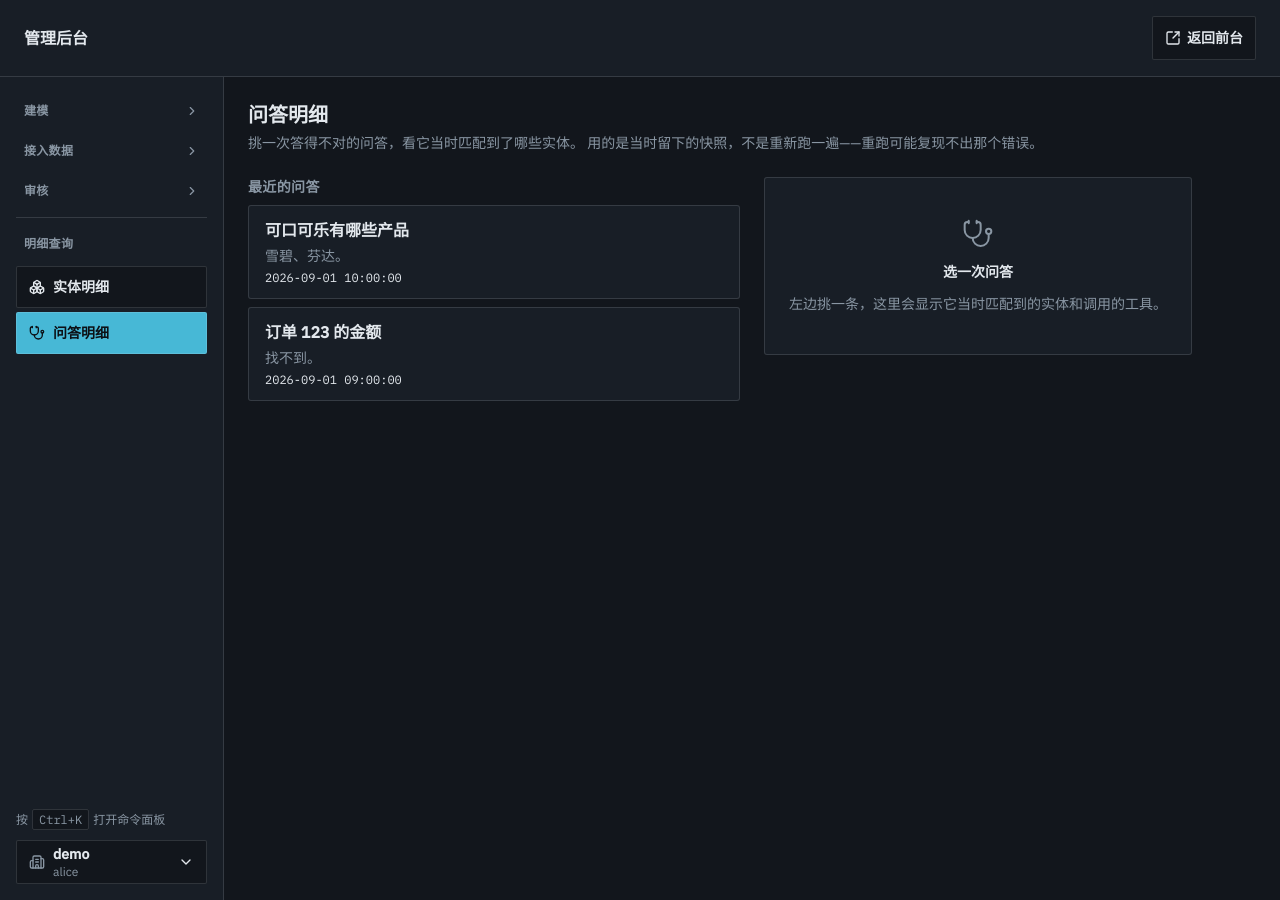
Test: 明细详情 › 被截断的工具结果要标出来
The image size is (1280, 900).
Expected: the header with test id "admin-topbar" is shown, top-left (0, 0), bottom-right (1279, 77)
Expected: the text "可口可乐有哪些产品" is shown, top-left (265, 218), bottom-right (409, 242)
Click the button "可口可乐有哪些产品 雪碧、芬达。 2026-09-01 10:00:00" at (337, 230), box top-left (248, 205), bottom-right (740, 299)
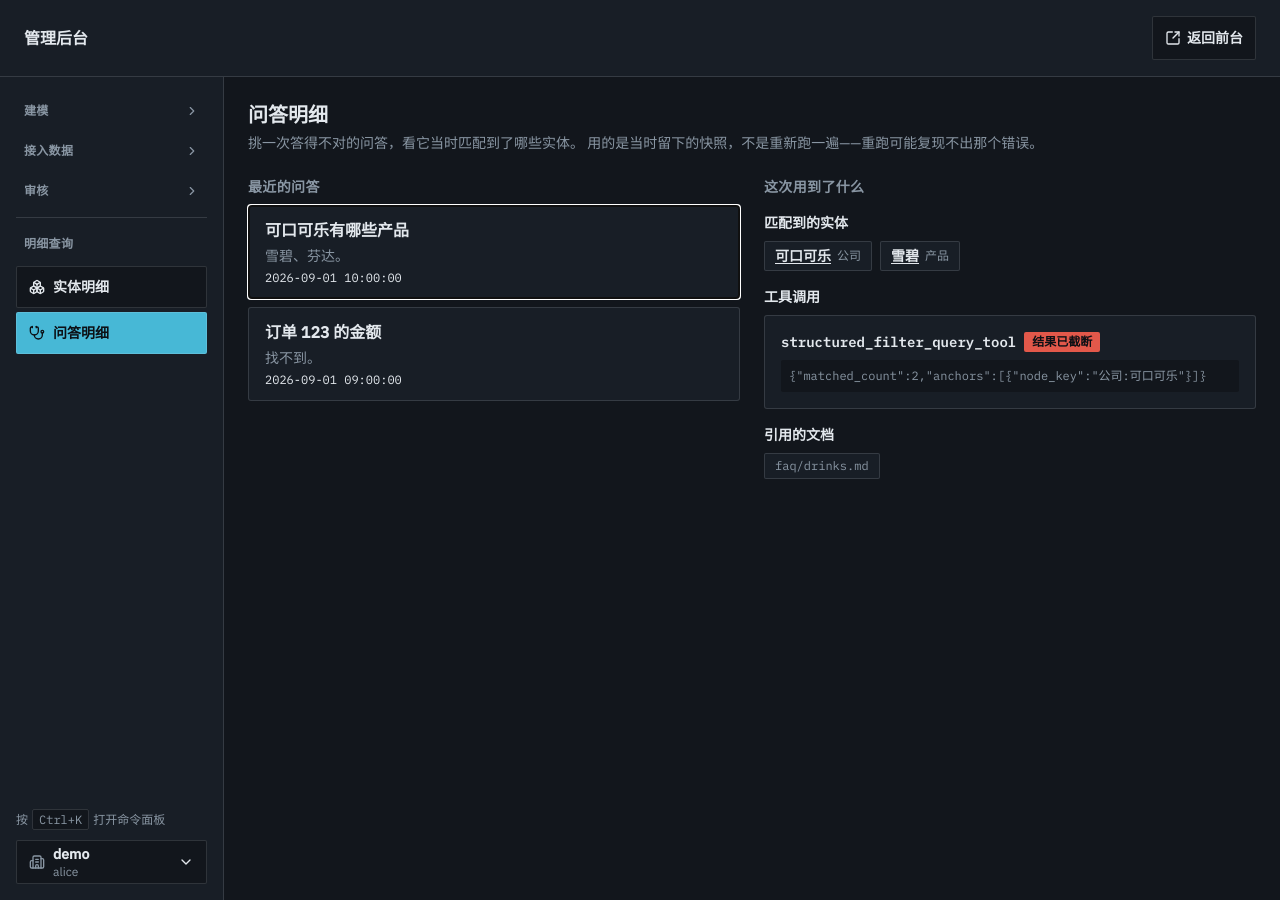
Expected: the text "结果已截断" is shown, top-left (1024, 332), bottom-right (1100, 352)
